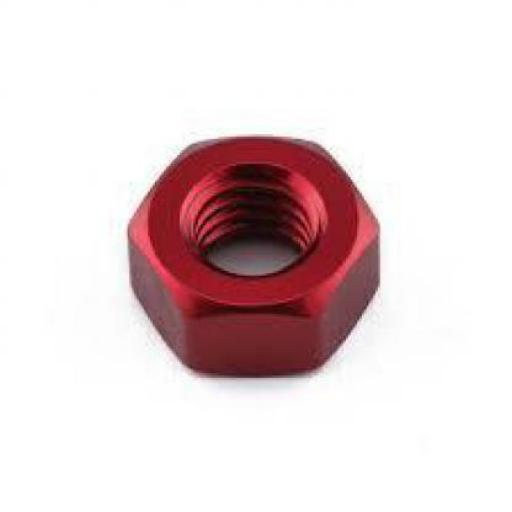Nut: (126, 135, 381, 379)
